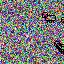sheep: (42, 12, 56, 23), (61, 17, 64, 23)
